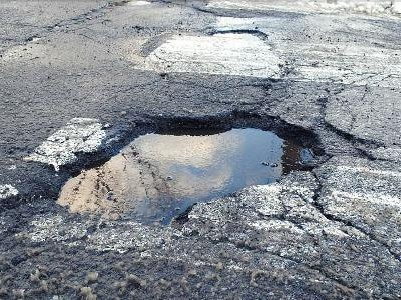pothole: (50, 107, 330, 229), (207, 24, 270, 39)
